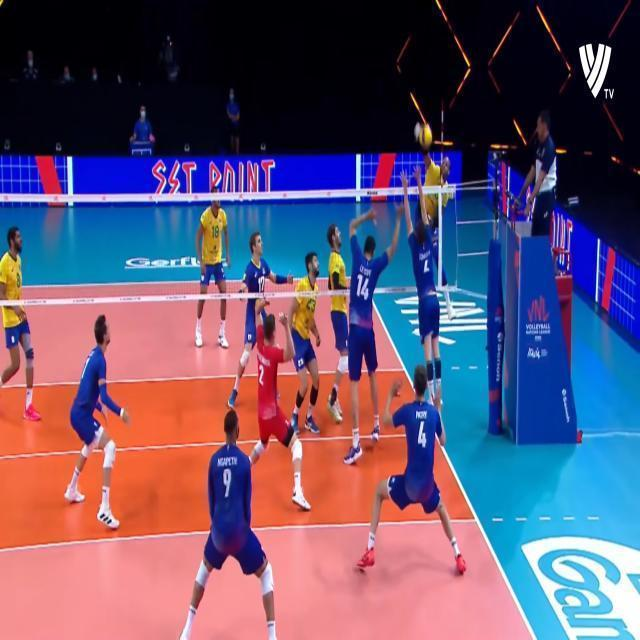volleyball: (420, 127, 432, 147)
